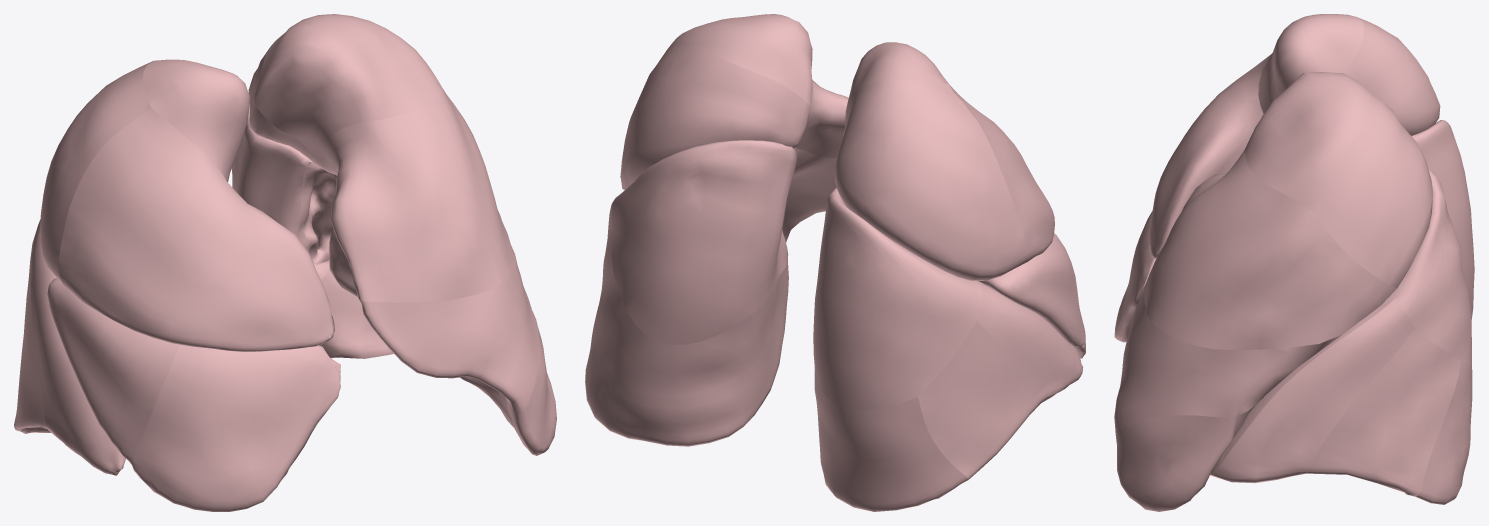
File: 3d-vh-m-lung.glb
3 renders of one model, left to right at view 1: azimuth 30°, elevation 25°; view 2: azimuth 150°, elevation 25°; view 3: azimuth 270°, elevation 25°, orthographic. The views are drawn at different scales.
Visible parts, largest first — view 1: VH_M_right_anterior_bronchopulmonary_segment, VH_M_left_anterior_bronchopulmonary_segment, VH_M_right_medial_bronchopulmonary_segment, VH_M_left_apical_bronchopulmonary_segment, VH_M_left_lingula_superior_bronchopulmonary_segment, VH_M_right_lateral_bronchopulmonary_segment, VH_M_right_apical_bronchopulmonary_segment, VH_M_right_posterior_bronchopulmonary_segment, VH_M_right_anterior_basal_bronchopulmonary_segment, VH_M_left_superior_bronchopulmonary_segment, VH_M_left_lingula_inferior_bronchopulmonary_segment, VH_M_hilum_L (+4 smaller); view 2: VH_M_left_superior_bronchopulmonary_segment, VH_M_right_posterior_bronchopulmonary_segment, VH_M_right_superior_bronchopulmonary_segment, VH_M_left_posetrior_basal_bronchopulmonary_segment, VH_M_left_posterior_bronchopulmonary_segment, VH_M_right_posterior_basal_bronchopulmonary_segment, VH_M_right_lateral_basal_bronchopulmonary_segment, VH_M_left_apical_bronchopulmonary_segment, VH_M_right_anterior_basal_bronchopulmonary_segment, VH_M_right_lateral_bronchopulmonary_segment, VH_M_right_anterior_bronchopulmonary_segment, VH_M_left_lingula_superior_bronchopulmonary_segment (+3 smaller); view 3: VH_M_left_anterior_bronchopulmonary_segment, VH_M_left_lateral_basal_bronchopulmonary_segment, VH_M_left_posterior_bronchopulmonary_segment, VH_M_left_anterior_basal_bronchopulmonary_segment, VH_M_left_lingula_superior_bronchopulmonary_segment, VH_M_left_apical_bronchopulmonary_segment, VH_M_left_lingula_inferior_bronchopulmonary_segment, VH_M_right_anterior_bronchopulmonary_segment, VH_M_left_superior_bronchopulmonary_segment, VH_M_right_apical_bronchopulmonary_segment, VH_M_right_posterior_bronchopulmonary_segment, VH_M_left_posetrior_basal_bronchopulmonary_segment (+3 smaller).
Part boxes in pixels (x1,y1,x2,y2): VH_M_right_anterior_bronchopulmonary_segment: [59, 108, 334, 351]; VH_M_left_anterior_bronchopulmonary_segment: [325, 89, 516, 302]; VH_M_right_medial_bronchopulmonary_segment: [132, 344, 340, 511]; VH_M_left_apical_bronchopulmonary_segment: [254, 14, 442, 162]; VH_M_left_lingula_superior_bronchopulmonary_segment: [359, 256, 538, 413]; VH_M_right_lateral_bronchopulmonary_segment: [47, 278, 179, 465]; VH_M_right_apical_bronchopulmonary_segment: [143, 59, 249, 182]; VH_M_right_posterior_bronchopulmonary_segment: [40, 61, 152, 284]; VH_M_right_anterior_basal_bronchopulmonary_segment: [31, 269, 125, 475]; VH_M_left_superior_bronchopulmonary_segment: [232, 104, 312, 237]; VH_M_left_lingula_inferior_bronchopulmonary_segment: [329, 245, 556, 455]; VH_M_hilum_L: [298, 155, 339, 279]; VH_M_left_superior_bronchopulmonary_segment: [611, 140, 797, 344]; VH_M_right_posterior_bronchopulmonary_segment: [834, 80, 1027, 280]; VH_M_right_superior_bronchopulmonary_segment: [813, 187, 982, 410]; VH_M_left_posetrior_basal_bronchopulmonary_segment: [585, 262, 788, 446]; VH_M_left_posterior_bronchopulmonary_segment: [622, 41, 810, 186]; VH_M_right_posterior_basal_bronchopulmonary_segment: [814, 369, 968, 511]; VH_M_right_lateral_basal_bronchopulmonary_segment: [918, 321, 1040, 479]; VH_M_left_apical_bronchopulmonary_segment: [669, 14, 812, 106]; VH_M_right_anterior_basal_bronchopulmonary_segment: [976, 280, 1083, 402]; VH_M_right_lateral_bronchopulmonary_segment: [978, 233, 1084, 348]; VH_M_right_anterior_bronchopulmonary_segment: [949, 84, 1054, 261]; VH_M_left_lingula_superior_bronchopulmonary_segment: [623, 148, 836, 239]; VH_M_left_anterior_bronchopulmonary_segment: [1144, 149, 1396, 349]; VH_M_left_lateral_basal_bronchopulmonary_segment: [1306, 328, 1460, 496]; VH_M_left_posterior_bronchopulmonary_segment: [1313, 102, 1432, 288]; VH_M_left_anterior_basal_bronchopulmonary_segment: [1210, 298, 1415, 483]; VH_M_left_lingula_superior_bronchopulmonary_segment: [1114, 283, 1391, 434]; VH_M_left_apical_bronchopulmonary_segment: [1245, 72, 1383, 211]; VH_M_left_lingula_inferior_bronchopulmonary_segment: [1115, 403, 1257, 511]; VH_M_right_anterior_bronchopulmonary_segment: [1149, 53, 1272, 258]; VH_M_left_superior_bronchopulmonary_segment: [1393, 168, 1471, 366]; VH_M_right_apical_bronchopulmonary_segment: [1258, 14, 1364, 113]; VH_M_right_posterior_bronchopulmonary_segment: [1345, 17, 1440, 135]; VH_M_left_posetrior_basal_bronchopulmonary_segment: [1416, 361, 1472, 504].
Size of the model in its own units: 0.2594 by 0.2291 by 0.1897.
